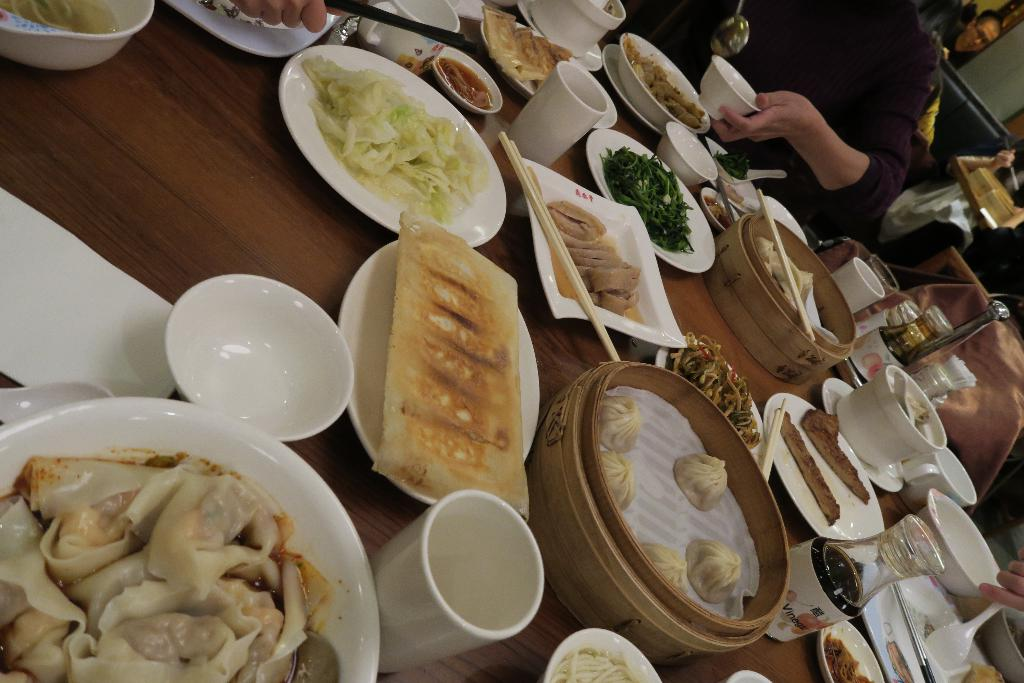plate: (272, 47, 506, 251), (597, 37, 712, 144), (693, 181, 759, 222)
